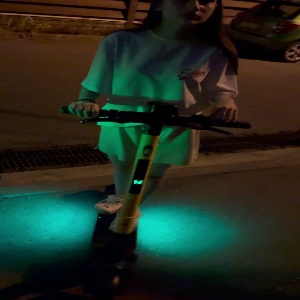human on a scooter: (57, 1, 251, 300)
